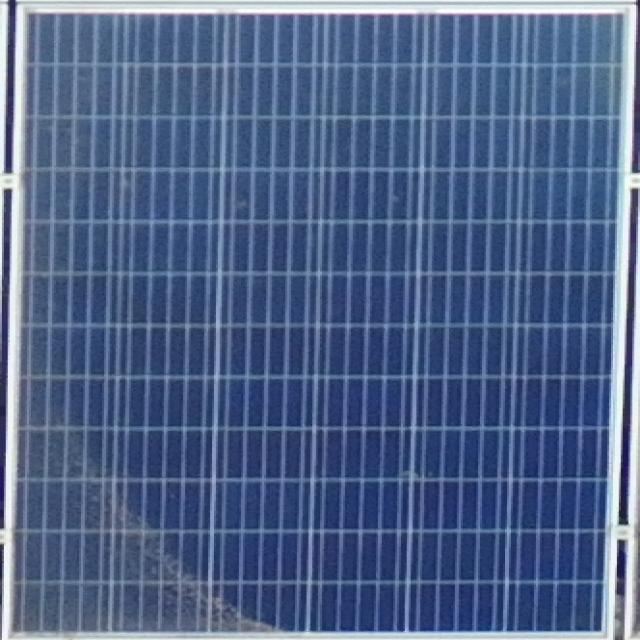Dust: (21, 410, 284, 635)
bird-droppings: (379, 468, 452, 493)
